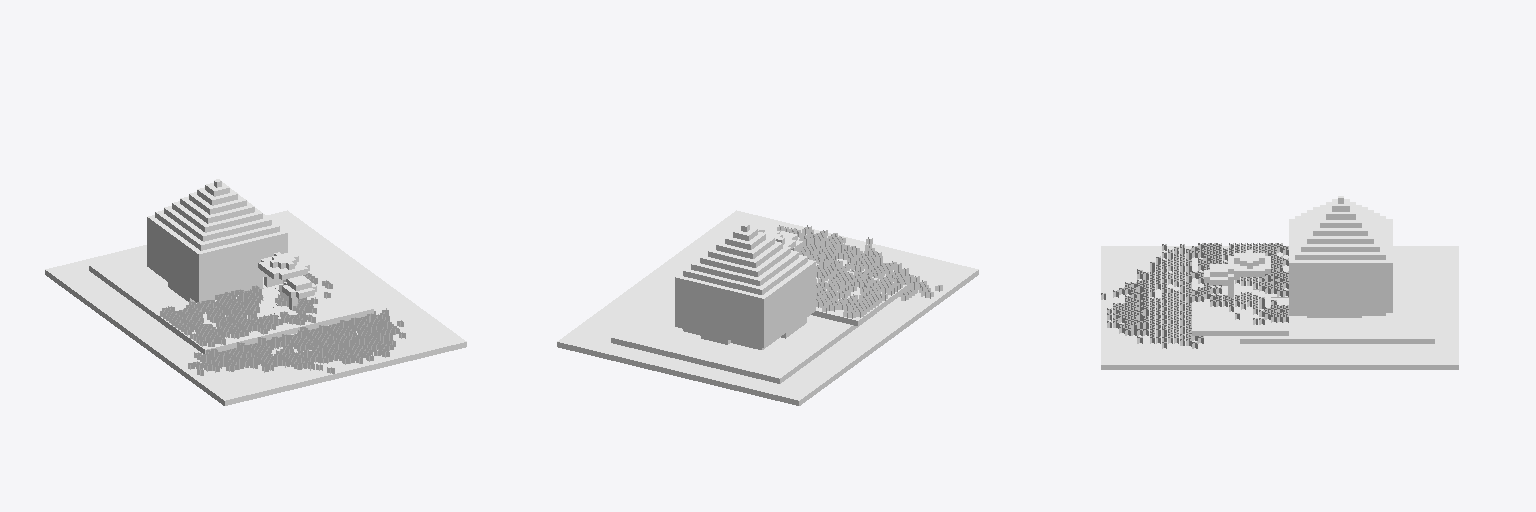
The model's file is mayor-house.obj.
3 views of the same model, side by side, from view 1: azimuth 30°, elevation 25°; view 2: azimuth 150°, elevation 25°; view 3: azimuth 270°, elevation 25° (orthographic).
Parts seen in each view (by area): view 1: Slon_VN_environments_(1_12)__1658_3_-1364_to_1703_255_-1306; view 2: Slon_VN_environments_(1_12)__1658_3_-1364_to_1703_255_-1306; view 3: Slon_VN_environments_(1_12)__1658_3_-1364_to_1703_255_-1306.
Boxes of the visible parts, x1,y1,x2,y2 form: Slon_VN_environments_(1_12)__1658_3_-1364_to_1703_255_-1306: [45, 179, 466, 405]; Slon_VN_environments_(1_12)__1658_3_-1364_to_1703_255_-1306: [557, 210, 978, 405]; Slon_VN_environments_(1_12)__1658_3_-1364_to_1703_255_-1306: [1101, 196, 1458, 369].
Size of the model in its own units: 46 by 20 by 59.